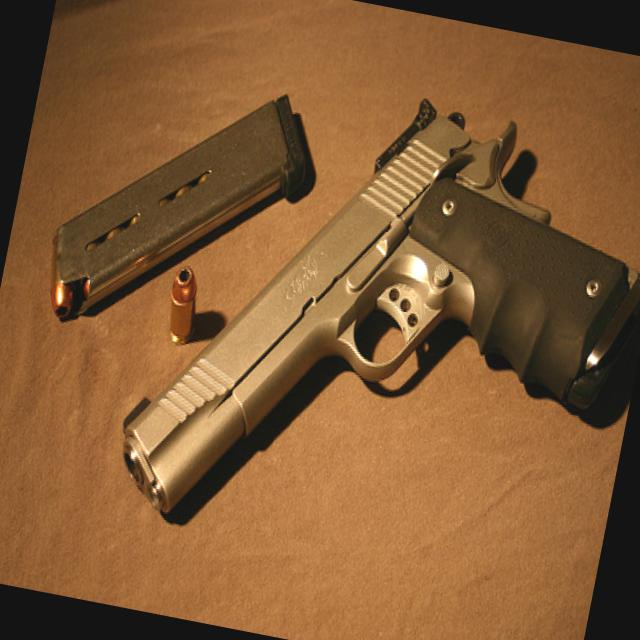handgun: (103, 46, 639, 601)
